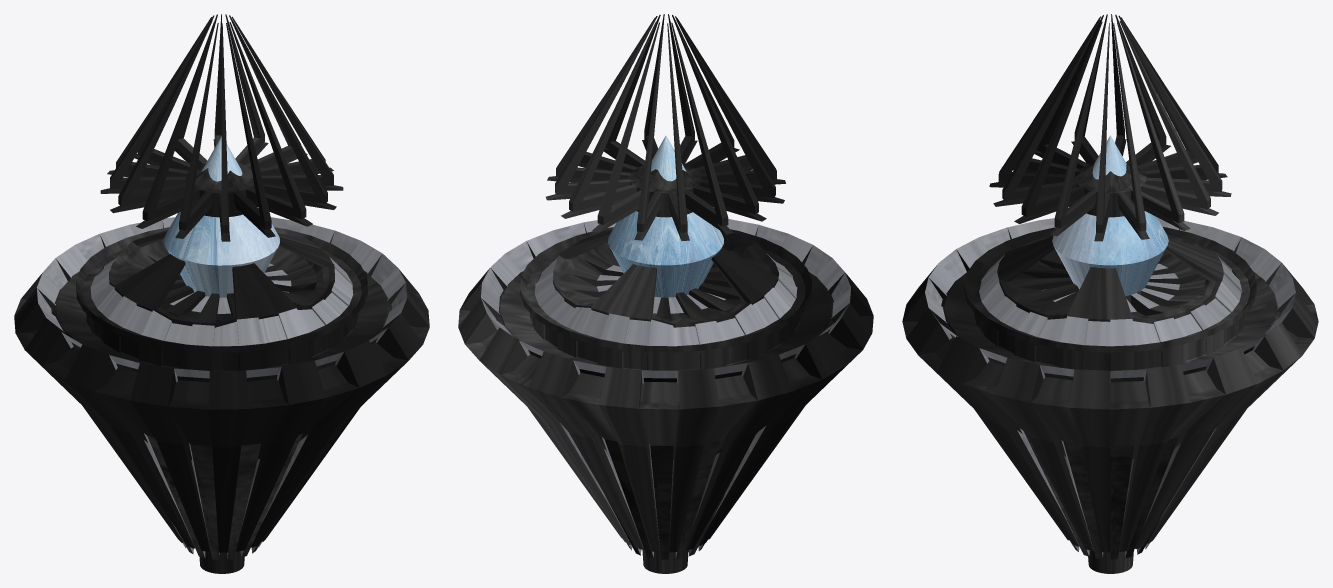
The model's file is Tower_v3.fbx.
3 renders of one model, left to right at view 1: azimuth 30°, elevation 25°; view 2: azimuth 150°, elevation 25°; view 3: azimuth 270°, elevation 25°, orthographic.
Parts seen in each view (by area): view 1: Cylinder.002, Cone.002; view 2: Cylinder.002, Cone.002; view 3: Cylinder.002, Cone.002.
Boxes of the visible parts, bbox=[...] form: Cylinder.002: bbox=[14, 14, 429, 573]; Cone.002: bbox=[164, 136, 279, 297]; Cylinder.002: bbox=[458, 14, 873, 573]; Cone.002: bbox=[608, 135, 723, 297]; Cylinder.002: bbox=[902, 14, 1318, 573]; Cone.002: bbox=[1052, 135, 1168, 296].
Size of the model in its own units: 587 by 849 by 587.
